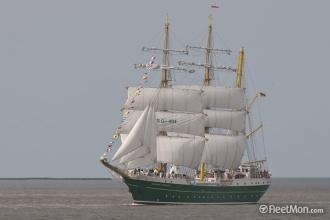fanchuan: (97, 6, 280, 207)
